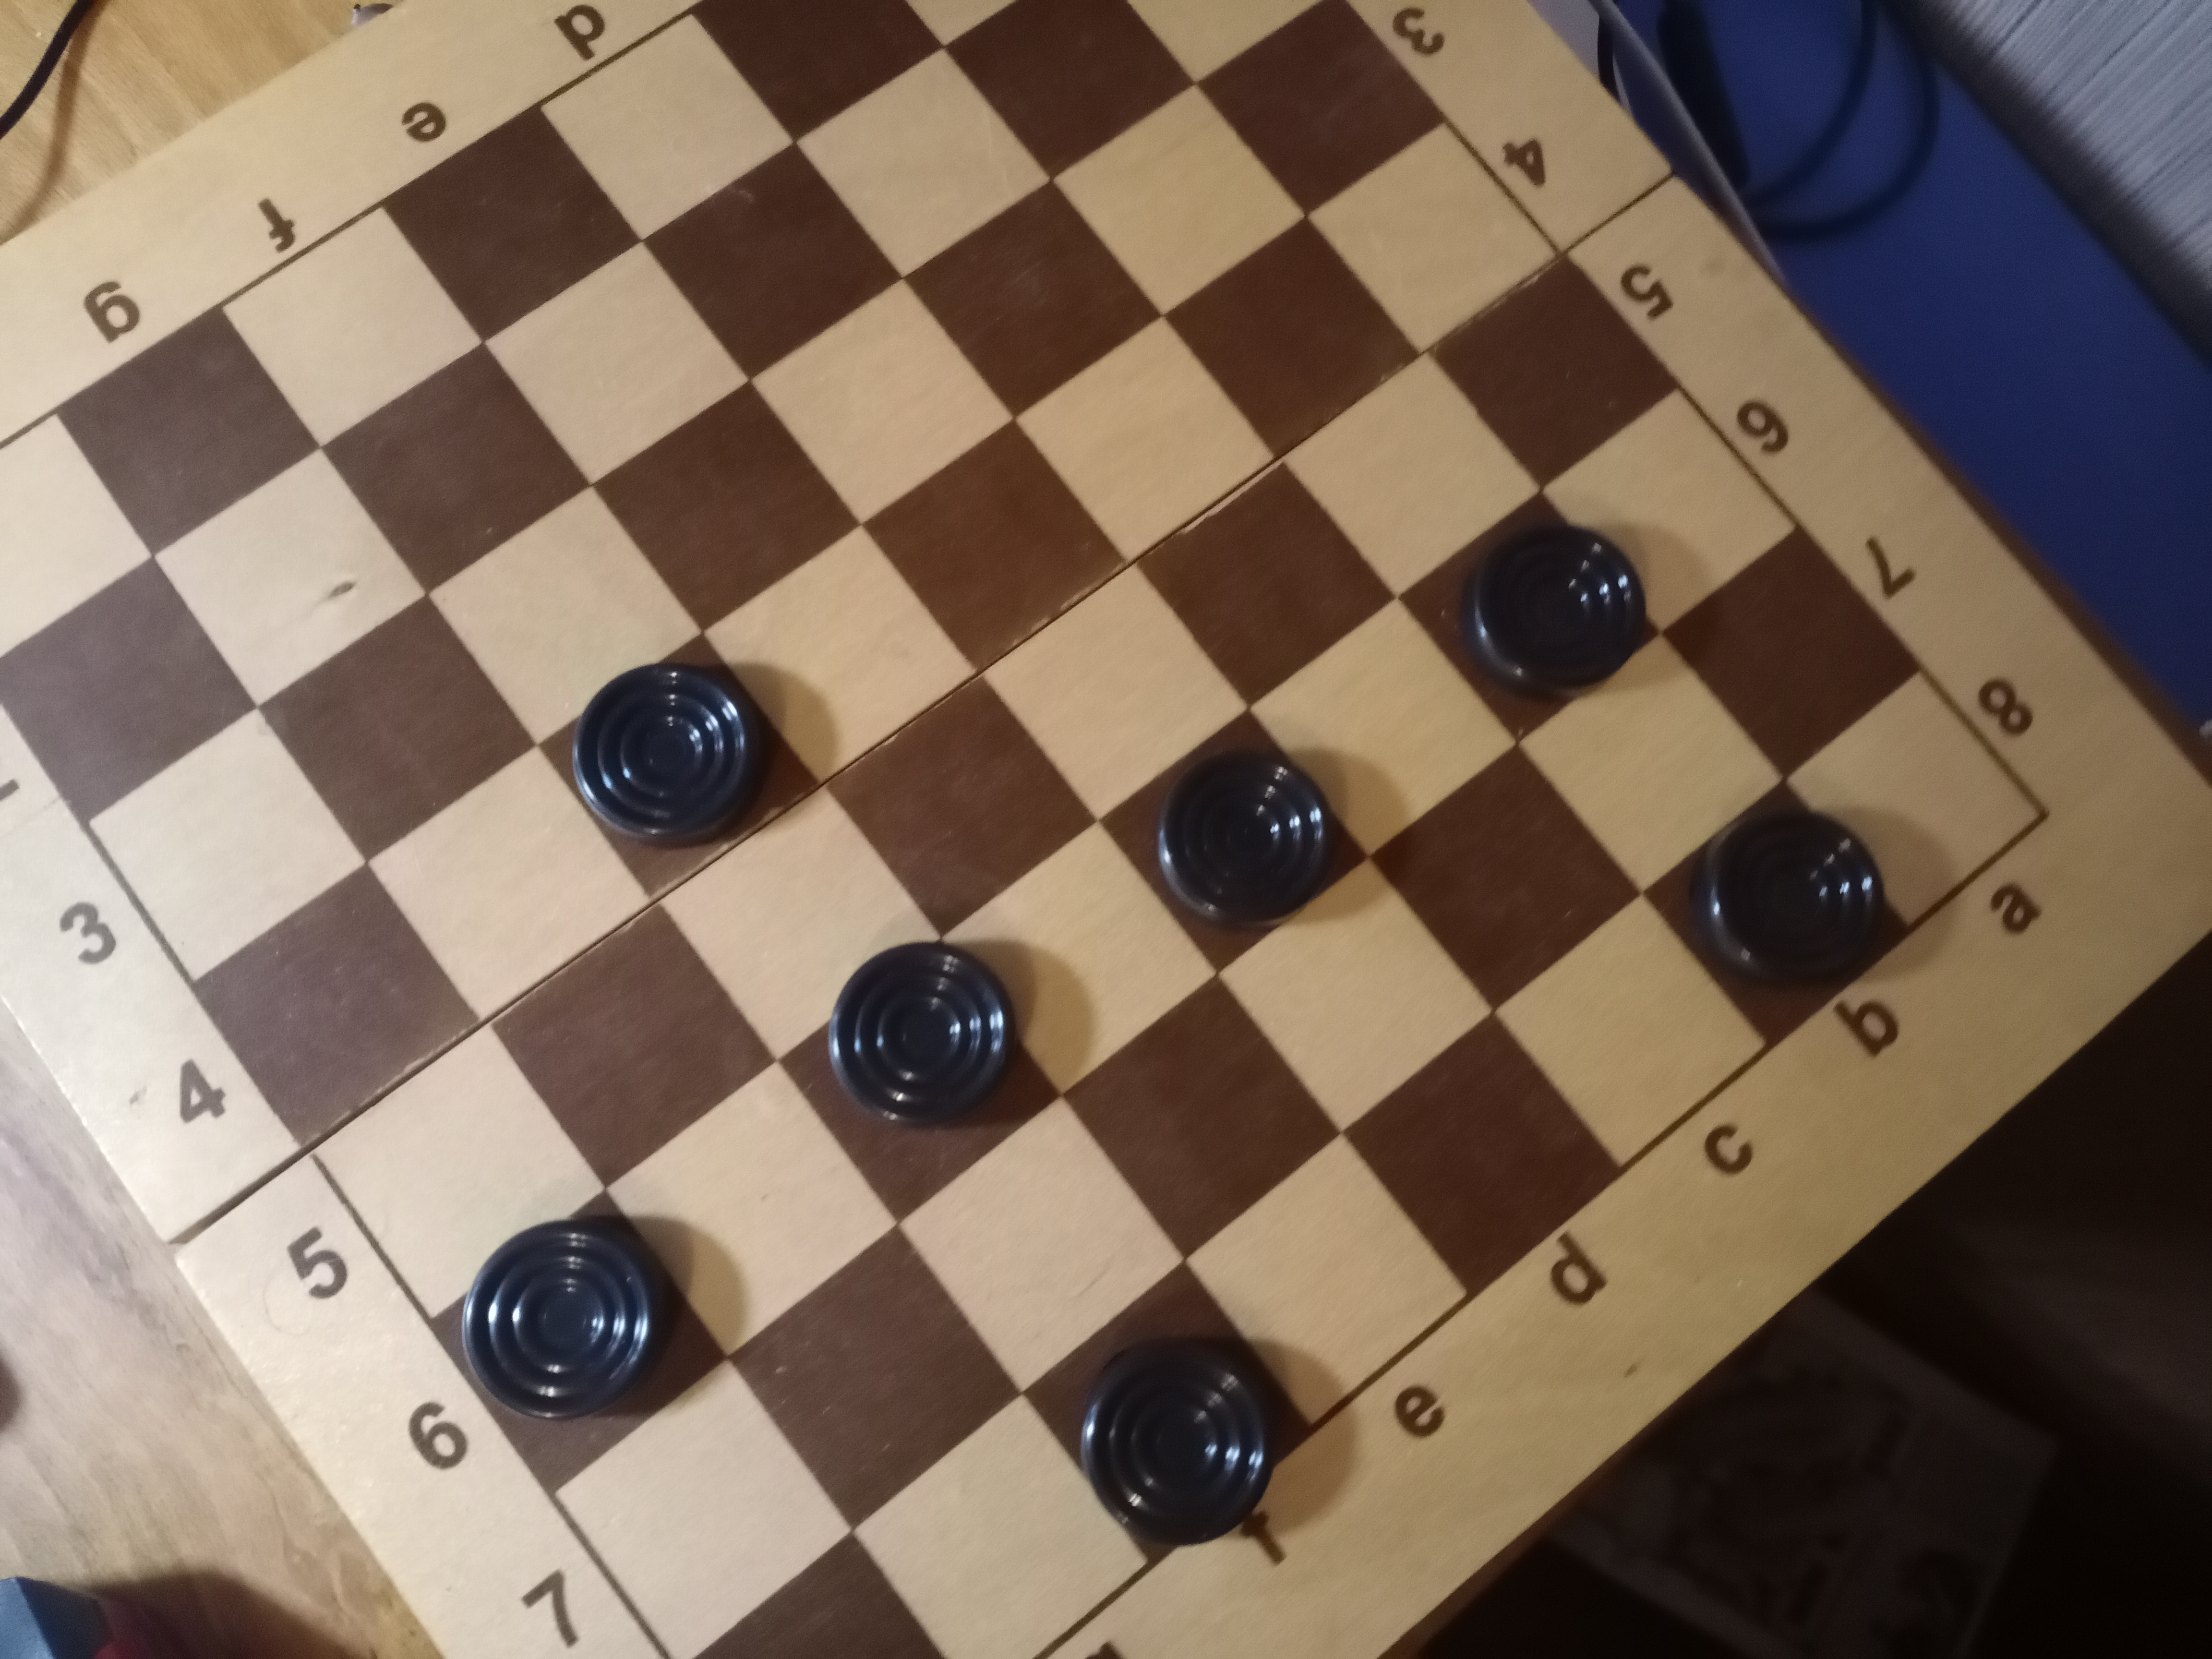Black_Draught: (428, 1187, 726, 1495), (1024, 1262, 1315, 1567), (777, 941, 1064, 1220), (540, 633, 826, 901), (1639, 779, 1912, 1046), (1096, 709, 1369, 974), (1399, 497, 1663, 739)
